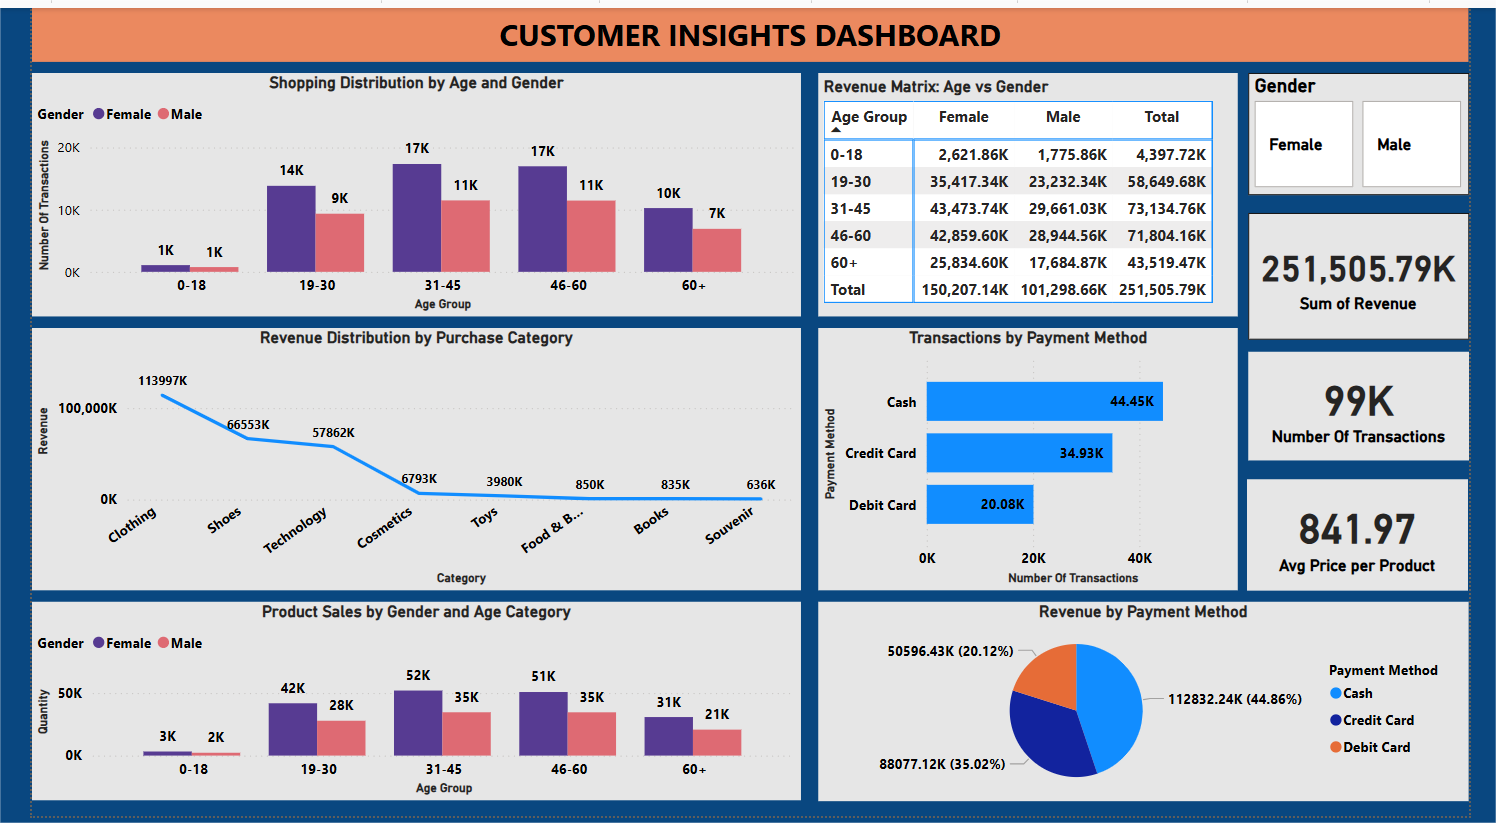

The page's visual inventory and layout, read from the dashboard file:
{"tool":"powerbi","page":{"name":"Customer Data Analysis Dashboard","canvas":[1280,720],"ordinal":0},"visuals":[{"type":"textbox","box":[0,0,1279,47.9],"z":0},{"type":"lineChart","title":"Revenue Distribution by Purchase Category","fields":{"Category":["Sheet1.category"],"Y":["Sum(Sheet1.Revenue)"]},"box":[0,285,684.6,233.8],"z":1},{"type":"pieChart","title":"Revenue by Payment Method","fields":{"Category":["Sheet1.payment_method"],"Y":["Sum(Sheet1.Revenue)"]},"box":[699.9,528.5,578.9,177.4],"z":2},{"type":"clusteredBarChart","title":"Transactions by Payment Method","fields":{"Y":["Sheet1.CountOfTransactions"],"Category":["Sheet1.payment_method"]},"box":[699.9,285.2,373.9,233.7],"z":3},{"type":"clusteredColumnChart","title":"Product Sales by Gender and Age Category","fields":{"Category":["Sheet1.Age Group"],"Y":["Sum(Sheet1.quantity)"],"Series":["Sheet1.Gender"]},"box":[0,528.8,684.6,177],"z":4},{"type":"pivotTable","title":"Revenue Matrix: Age vs Gender","fields":{"Rows":["Sheet1.Age Group"],"Columns":["Sheet1.Gender"],"Values":["Sum(Sheet1.Revenue)"]},"box":[699.9,57.5,373.9,216.9],"z":5},{"type":"clusteredColumnChart","title":"Shopping Distribution by Age and Gender","fields":{"Category":["Sheet1.Age Group"],"Series":["Sheet1.Gender"],"Y":["Sheet1.Number Of Transactions"]},"box":[0,57.9,684.6,217.1],"z":6},{"type":"advancedSlicerVisual","fields":{"Values":["Sheet1.Gender"]},"box":[1083,57.9,197,109.1],"z":7},{"type":"card","title":"Total Revenue","fields":{"Values":["Sum(Sheet1.Revenue)"]},"box":[1083.4,182.2,196.6,112.7],"z":8},{"type":"card","title":"Total Revenue","fields":{"Values":["Sheet1.Number Of Transactions"]},"box":[1083.4,305.6,196.6,97.1],"z":9},{"type":"card","title":"Total Revenue","fields":{"Values":["Sheet1.Avg Price per Product"]},"box":[1082.2,419.5,196.6,99.5],"z":10}]}

Visuals, with their boxes in screenshot pixels (x1, y1, x2, y2), scaled from the page's 1280x720 canvas onto the 1496x823 screenshot:
textbox: [left=0, top=0, right=1495, bottom=55]
"Revenue Distribution by Purchase Category" lineChart: [left=0, top=326, right=800, bottom=593]
"Revenue by Payment Method" pieChart: [left=818, top=604, right=1495, bottom=807]
"Transactions by Payment Method" clusteredBarChart: [left=818, top=326, right=1255, bottom=593]
"Product Sales by Gender and Age Category" clusteredColumnChart: [left=0, top=604, right=800, bottom=807]
"Revenue Matrix: Age vs Gender" pivotTable: [left=818, top=66, right=1255, bottom=314]
"Shopping Distribution by Age and Gender" clusteredColumnChart: [left=0, top=66, right=800, bottom=314]
advancedSlicerVisual - Sheet1.Gender: [left=1266, top=66, right=1495, bottom=191]
"Total Revenue" card: [left=1266, top=208, right=1495, bottom=337]
"Total Revenue" card: [left=1266, top=349, right=1495, bottom=460]
"Total Revenue" card: [left=1265, top=480, right=1495, bottom=593]
